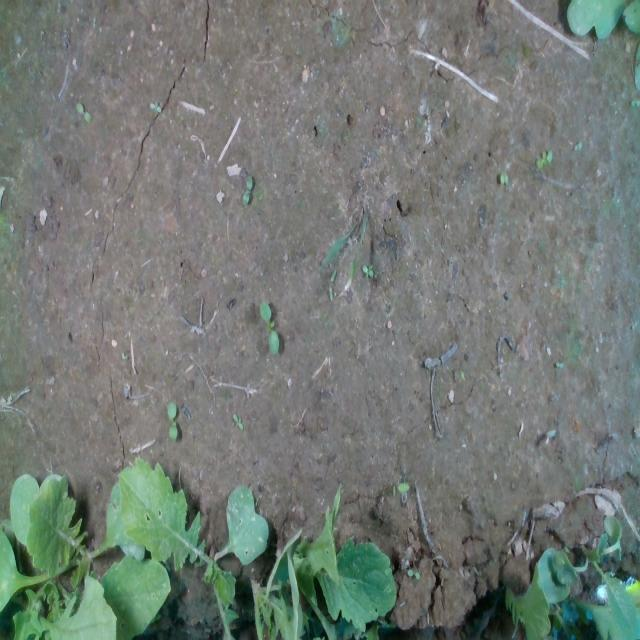weed: (254, 298, 280, 358), (328, 267, 336, 301)
